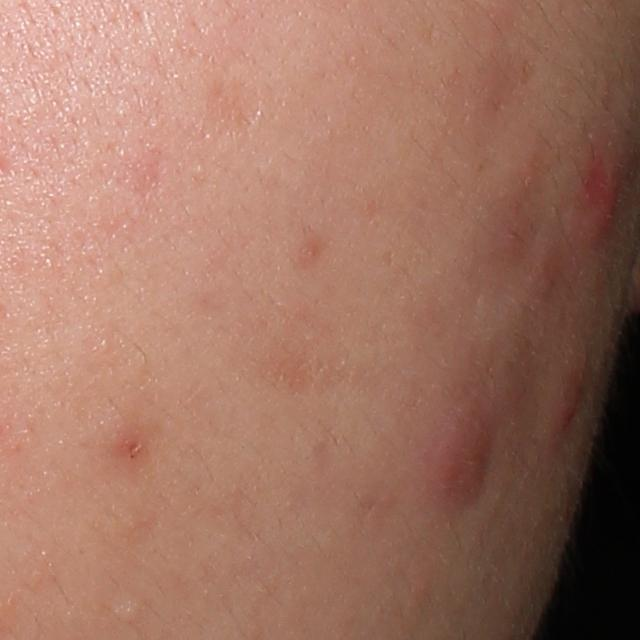papule: (583, 168, 628, 245), (542, 383, 584, 445)
